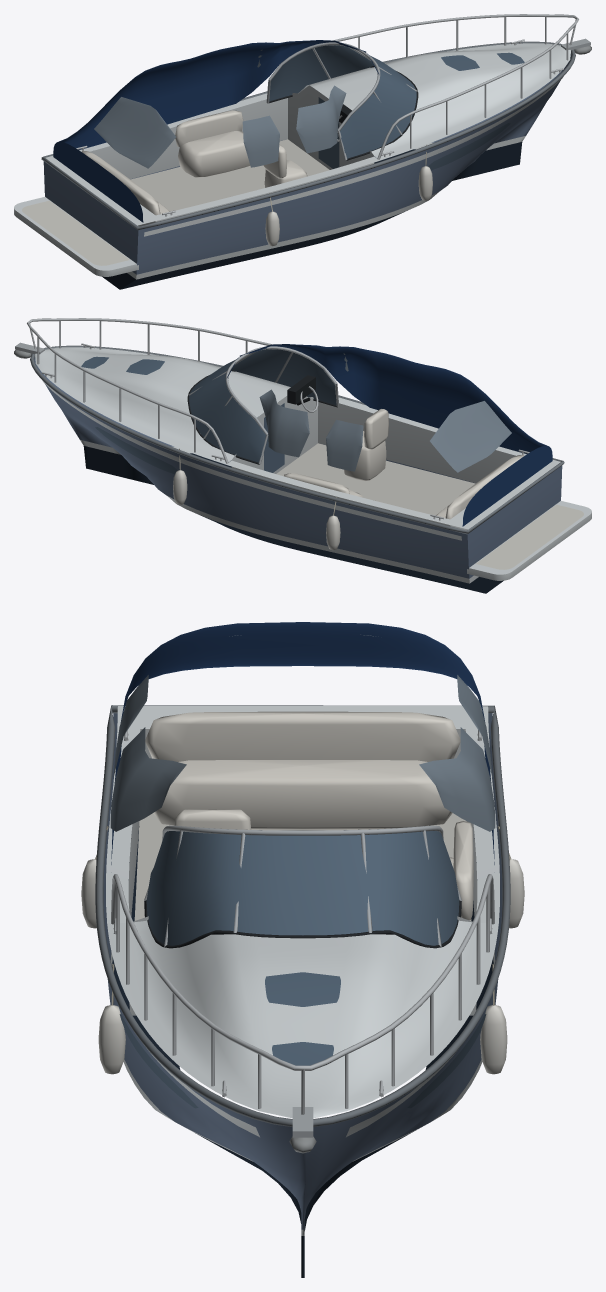
Rendered from cabin-cruiser-navy.glb.
3 renders of one model, top to bottom at view 1: azimuth 30°, elevation 25°; view 2: azimuth 150°, elevation 25°; view 3: azimuth 270°, elevation 25°, orthographic. The views are drawn at different scales.
Visible parts, largest first — view 1: cruiser-lod0; view 2: cruiser-lod0; view 3: cruiser-lod0.
Part boxes in pixels (bbox=[...]): cruiser-lod0: bbox=[14, 14, 591, 289]; cruiser-lod0: bbox=[14, 318, 591, 593]; cruiser-lod0: bbox=[81, 622, 524, 1277].
Size of what is drawn, in the model's own units: 8.24 by 2.4 by 2.95.
